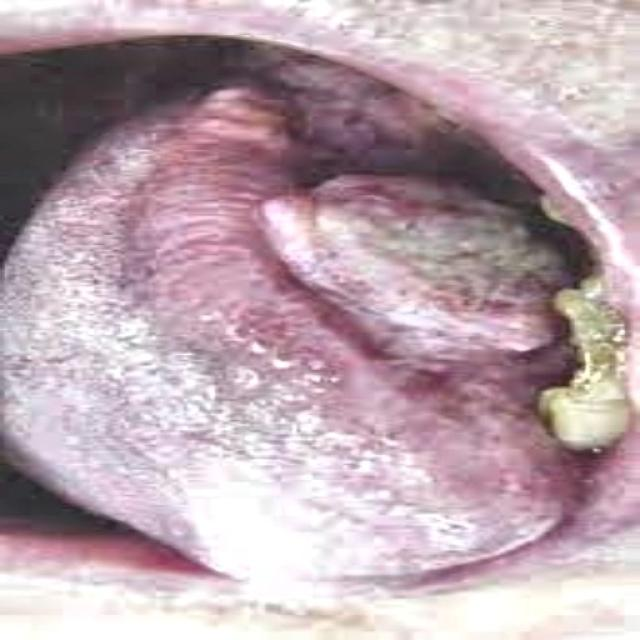cancer-detection: (244, 163, 580, 375)
processing_area: (0, 76, 606, 592)
